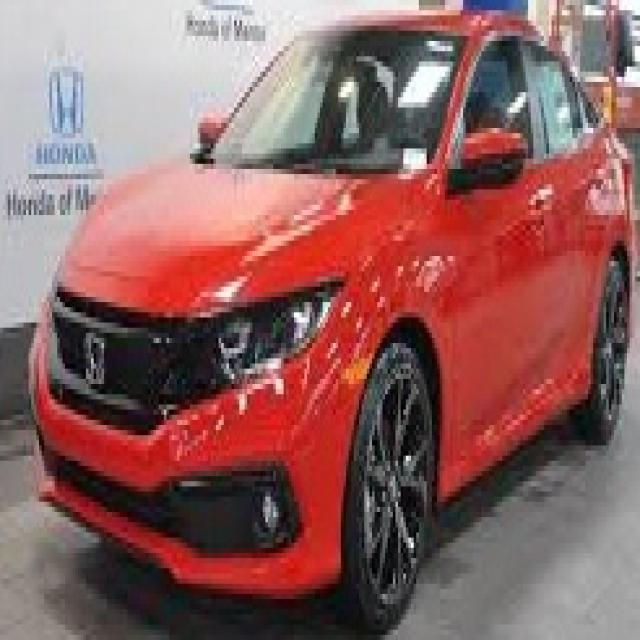red: (31, 10, 624, 598)
